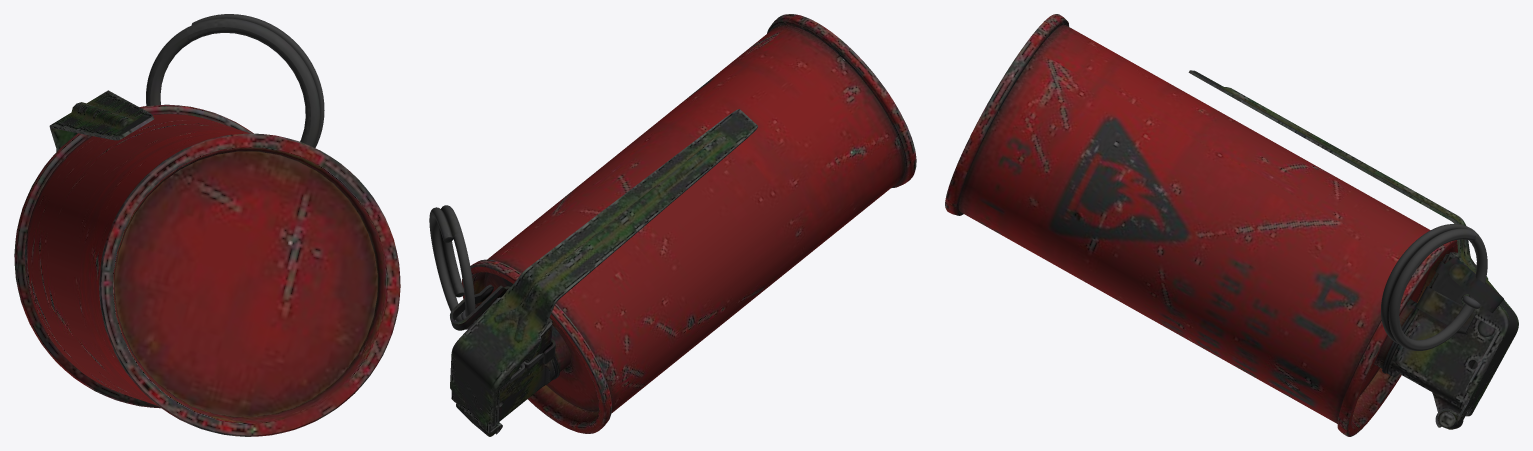
Rendered from w_incendiary.glb.
3 renders of one model, left to right at view 1: azimuth 30°, elevation 25°; view 2: azimuth 150°, elevation 25°; view 3: azimuth 270°, elevation 25°, orthographic. The views are drawn at different scales.
Visible parts, largest first — view 1: w_incendiary; view 2: w_incendiary; view 3: w_incendiary.
Boxes of the visible parts, x1,y1,x2,y2 form: w_incendiary: (14,14,400,436); w_incendiary: (429,14,916,436); w_incendiary: (945,14,1518,436).
Size of the model in its own units: 0.1234 by 0.1198 by 0.1789.
Materials: 1 (1 with a texture image).
